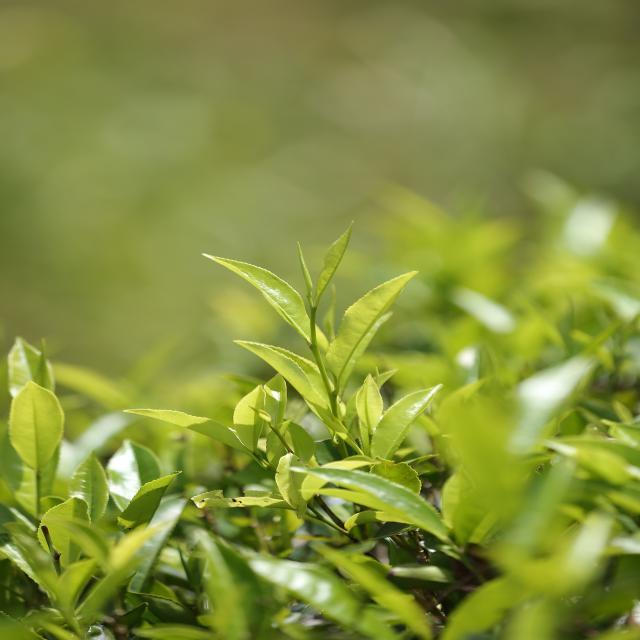Stem: (310, 309, 315, 318)
